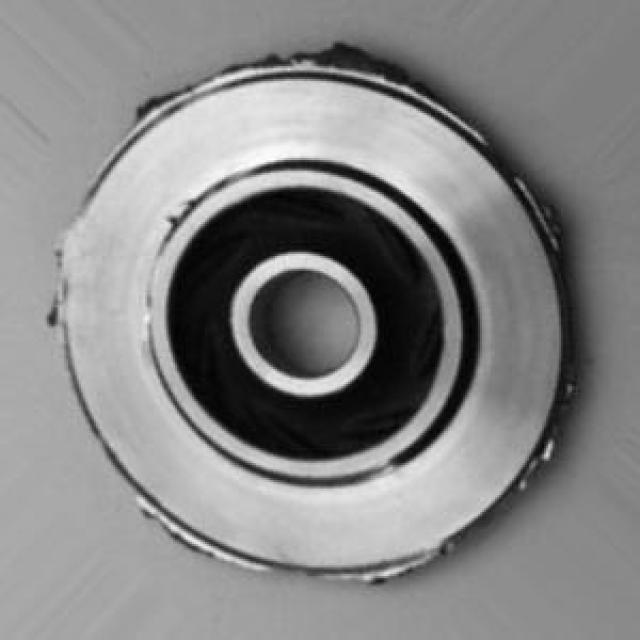Defect: (312, 31, 383, 84)
